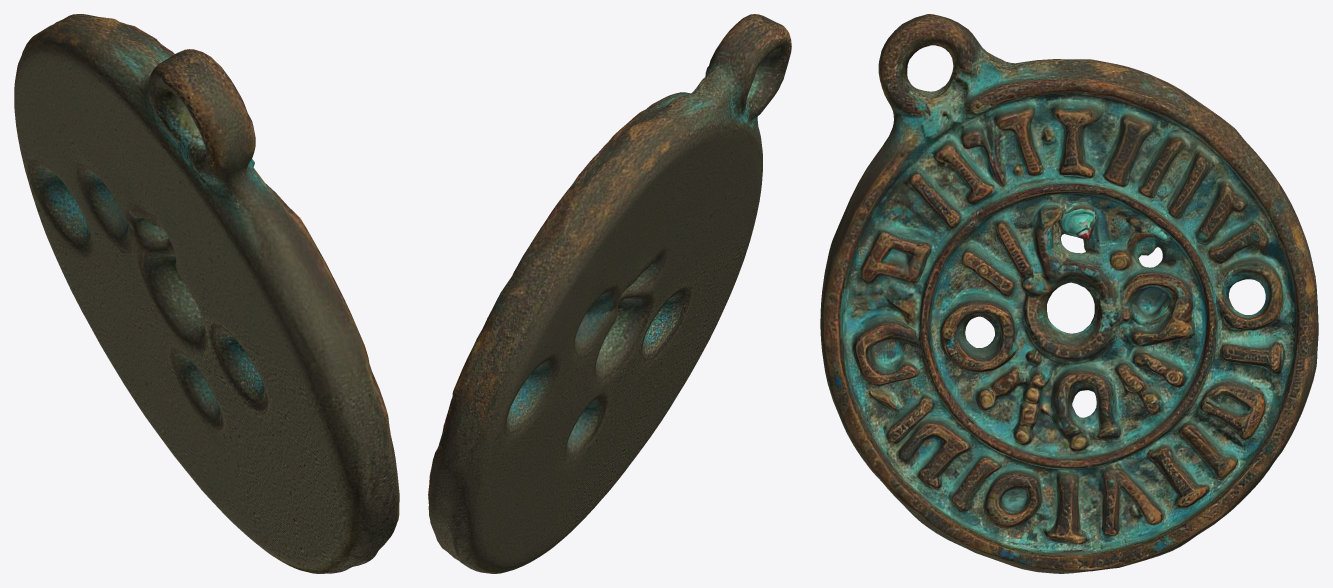
Rendered from byzantine-amulet.glb.
3 views of the same model, side by side, from view 1: azimuth 30°, elevation 25°; view 2: azimuth 150°, elevation 25°; view 3: azimuth 270°, elevation 25° (orthographic). The views are drawn at different scales.
Parts seen in each view (by area): view 1: tripo_node_9dd97ac1-246c-482d-8b8d-66f21bf3629e; view 2: tripo_node_9dd97ac1-246c-482d-8b8d-66f21bf3629e; view 3: tripo_node_9dd97ac1-246c-482d-8b8d-66f21bf3629e.
Part boxes in pixels (<box>): tripo_node_9dd97ac1-246c-482d-8b8d-66f21bf3629e: <box>14,14,399,573</box>; tripo_node_9dd97ac1-246c-482d-8b8d-66f21bf3629e: <box>428,14,791,573</box>; tripo_node_9dd97ac1-246c-482d-8b8d-66f21bf3629e: <box>820,14,1318,573</box>.
Size of the model in its own units: 0.409 by 1 by 0.9253.
Materials: 1 (1 with a texture image).
